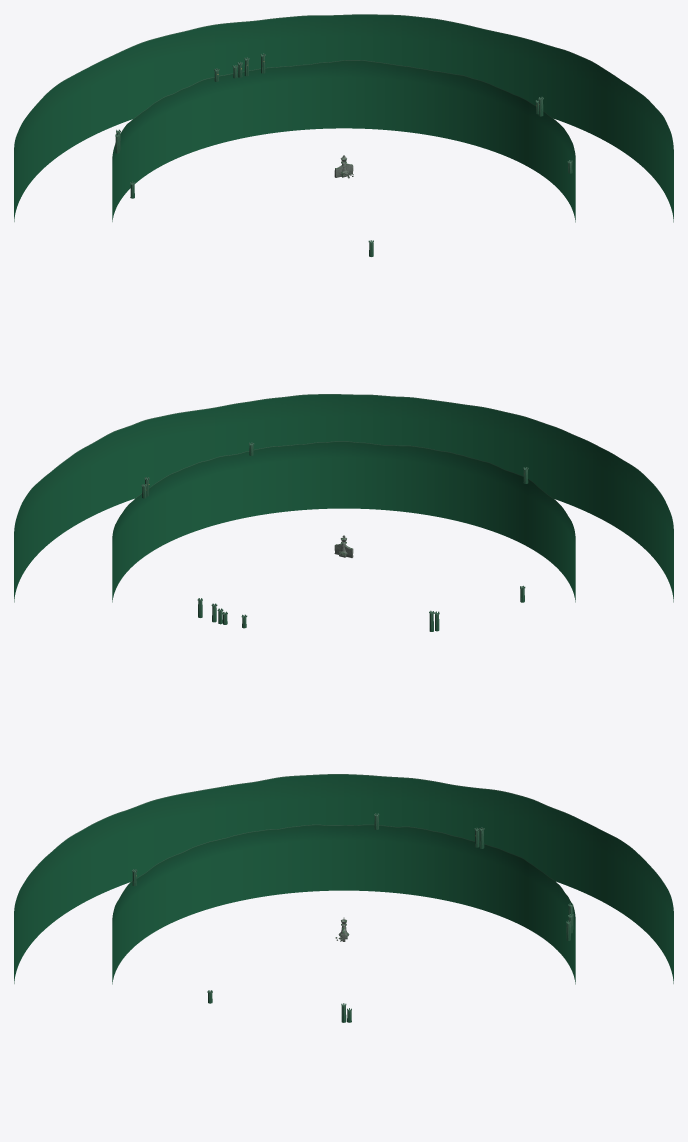
The model's file is endgames.glb.
3 views of the same model, one above another, from view 1: azimuth 30°, elevation 25°; view 2: azimuth 150°, elevation 25°; view 3: azimuth 270°, elevation 25° (orthographic).
Visible parts, largest first — view 1: horizon-far, horizon-near; view 2: horizon-far, horizon-near; view 3: horizon-far, horizon-near.
Boxes of the visible parts, x1,y1,x2,y2 form: horizon-far: (14, 14, 673, 222); horizon-near: (112, 53, 575, 256); horizon-far: (14, 394, 673, 602); horizon-near: (112, 441, 575, 631); horizon-far: (14, 774, 673, 983); horizon-near: (112, 813, 575, 1022).
Size of the model in its own units: 470 by 65.58 by 470.
